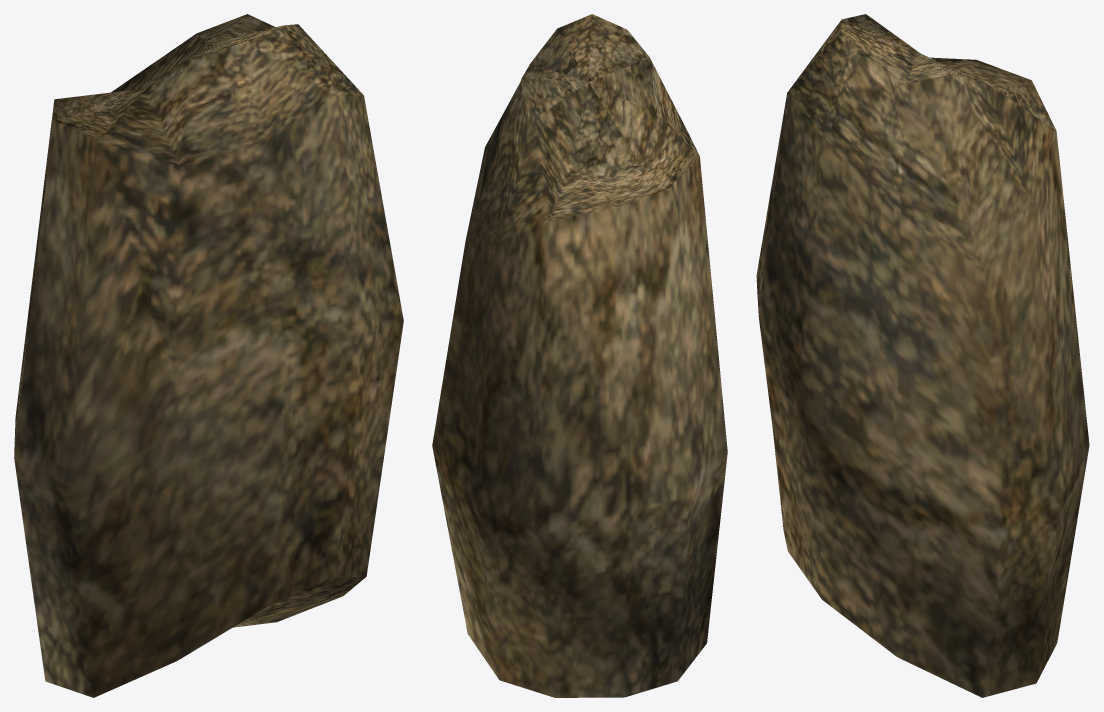
The model's file is CH09_SMAUG_PLAYSURFACE_LONELYMOUNTAIN_LM_PLAYSURFACE21.fbx.
3 views of the same model, side by side, from view 1: azimuth 30°, elevation 25°; view 2: azimuth 150°, elevation 25°; view 3: azimuth 270°, elevation 25° (orthographic). The views are drawn at different scales.
Visible parts, largest first — view 1: CH09_SMAUG_PLAYSURFACE_LONELYMOUNTAIN_LM_PLAYSURFACE21; view 2: CH09_SMAUG_PLAYSURFACE_LONELYMOUNTAIN_LM_PLAYSURFACE21; view 3: CH09_SMAUG_PLAYSURFACE_LONELYMOUNTAIN_LM_PLAYSURFACE21.
Part boxes in pixels (bbox=[...]): CH09_SMAUG_PLAYSURFACE_LONELYMOUNTAIN_LM_PLAYSURFACE21: bbox=[14, 14, 403, 697]; CH09_SMAUG_PLAYSURFACE_LONELYMOUNTAIN_LM_PLAYSURFACE21: bbox=[432, 14, 727, 697]; CH09_SMAUG_PLAYSURFACE_LONELYMOUNTAIN_LM_PLAYSURFACE21: bbox=[756, 14, 1089, 697].
Bounding box in the file's own units: 32564 × 67943 × 31465.
1 material, 1 textured.
